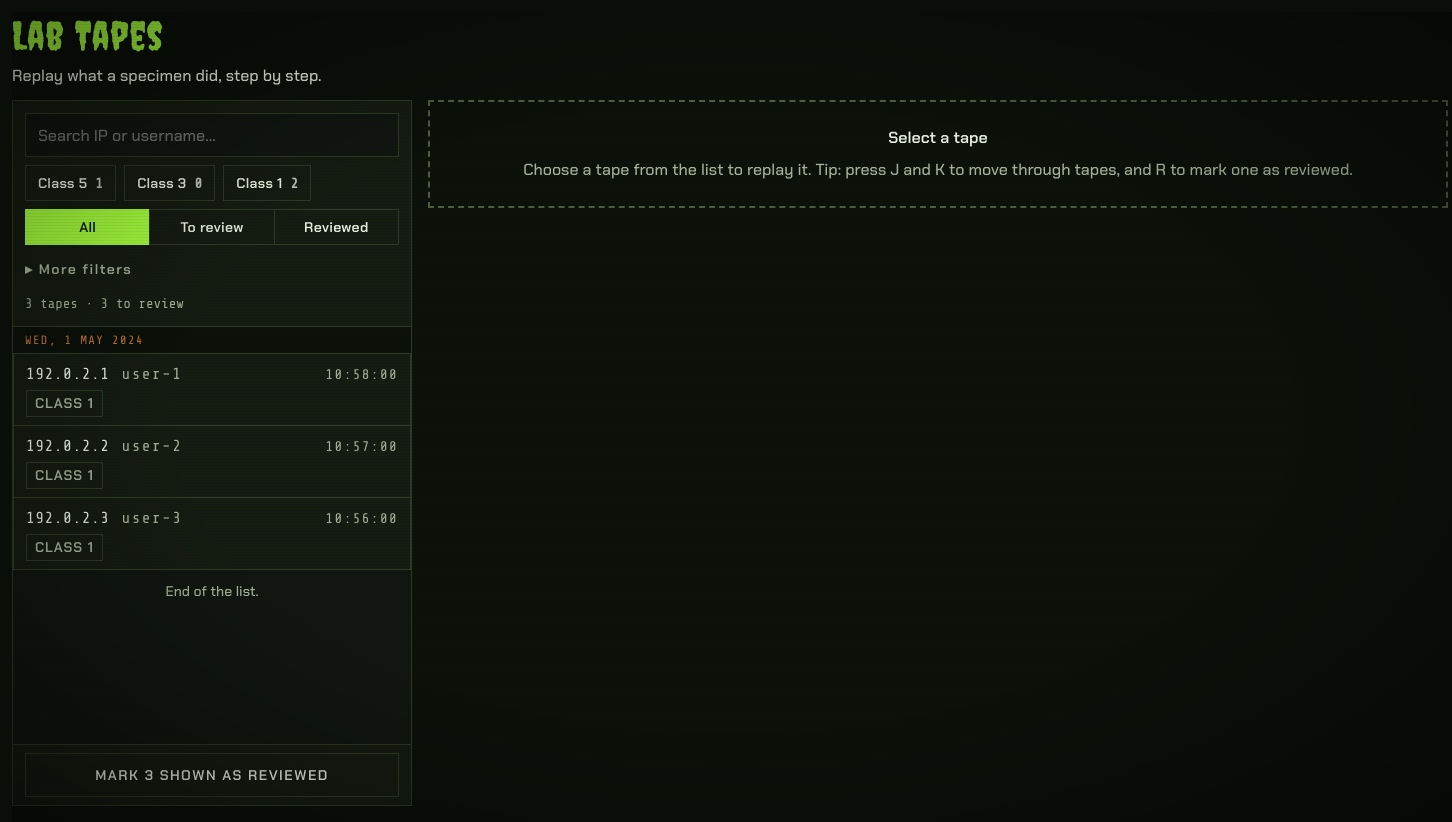
Scenario: Lab Tapes triage › marks every shown tape reviewed in one request, with undo
The image size is (1452, 822).
Later steps or results of the test are not shown.
Click the button "Mark 3 shown as reviewed". click: [212, 775]
box: x1=25 y1=753 x2=399 y2=797
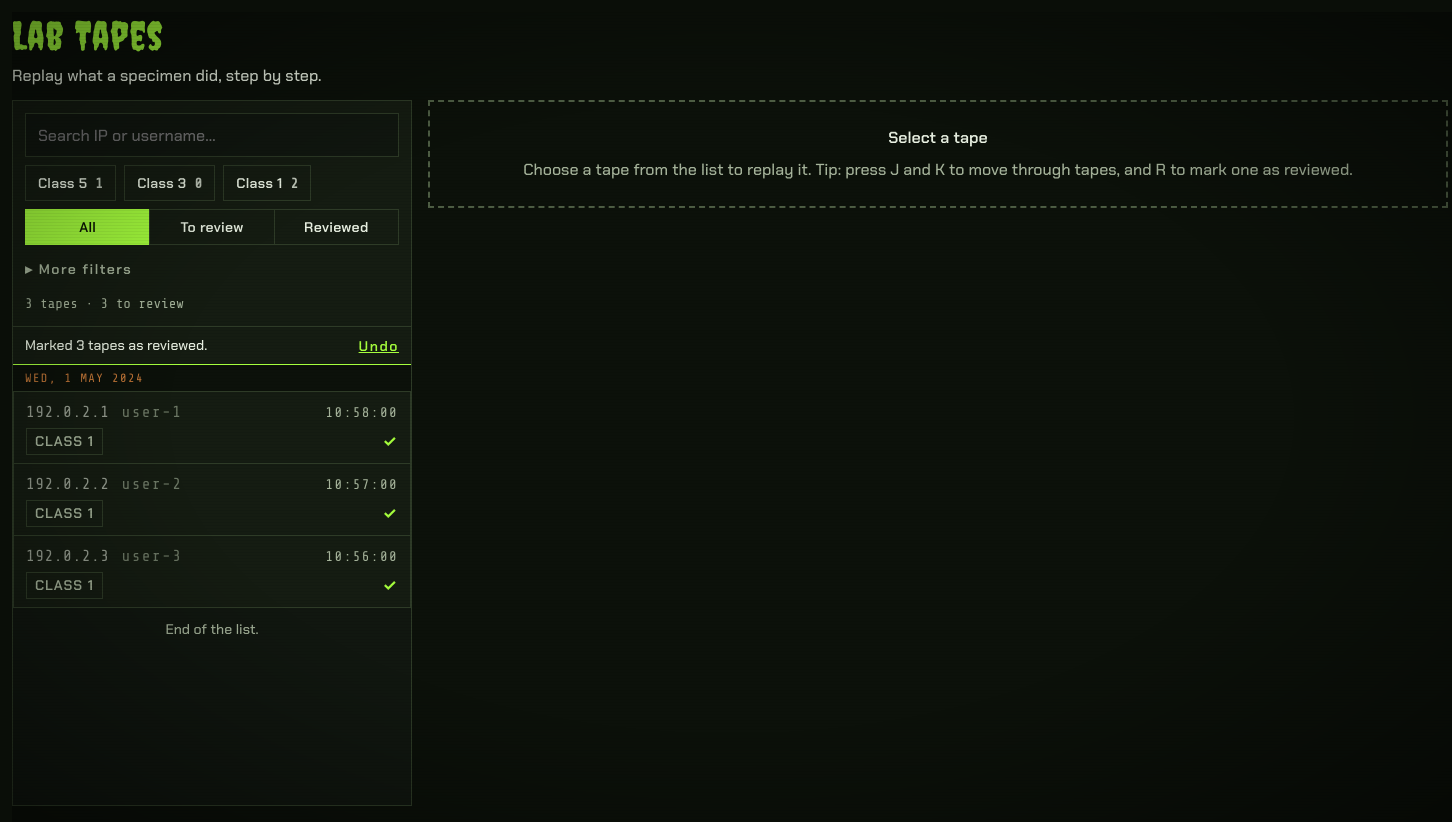
Expected: the text "Marked 3 tapes as reviewed." is shown, x1=25 y1=335 x2=207 y2=356
